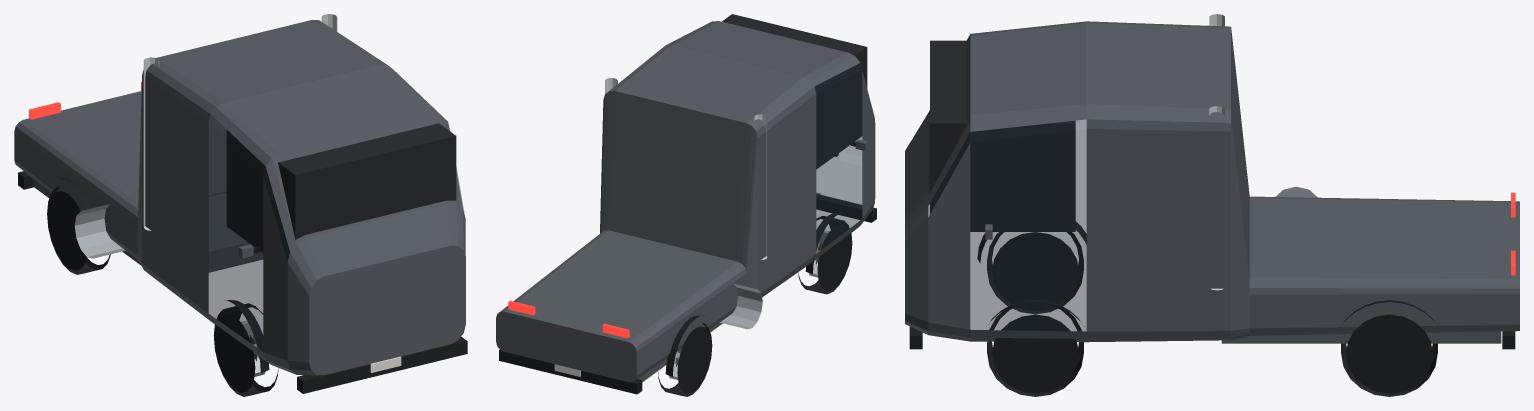
Rendered from semi.glb.
3 renders of one model, left to right at view 1: azimuth 30°, elevation 25°; view 2: azimuth 150°, elevation 25°; view 3: azimuth 270°, elevation 25°, orthographic. The views are drawn at different scales.
Visible parts, largest first — view 1: body, wheel_FL, wheel_RL; view 2: body, wheel_FL, wheel_RL; view 3: body, wheel_FL, wheel_RR, wheel_FR.
Boxes of the visible parts, x1,y1,x2,y2 form: body: (14, 14, 467, 393); wheel_FL: (213, 303, 278, 396); wheel_RL: (47, 186, 110, 274); body: (496, 14, 876, 394); wheel_FL: (798, 216, 852, 294); wheel_RL: (658, 322, 712, 396); body: (905, 14, 1519, 349); wheel_FL: (987, 232, 1083, 314); wheel_RR: (1341, 314, 1437, 396); wheel_FR: (987, 299, 1083, 396).
Bounding box in the file's own units: 2.94 × 3.4 × 6.6.
